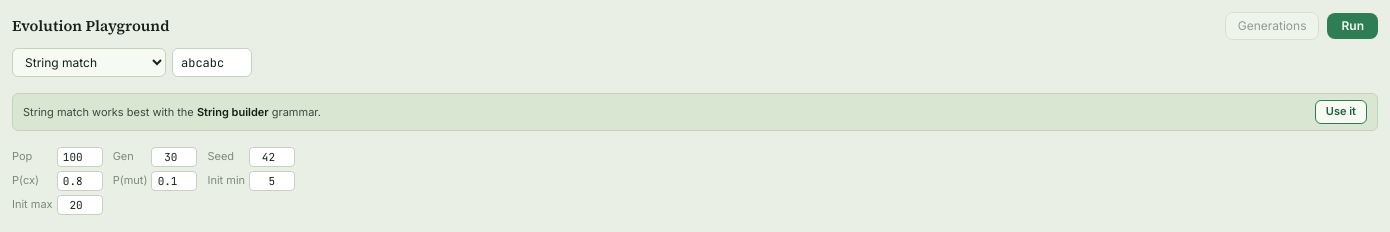
Scenario: EvolutionPanel › disables running when the population is out of range
Replace the text in the number field labelled "Pop" with "1" at [80, 157], box 57,147 -> 103,167
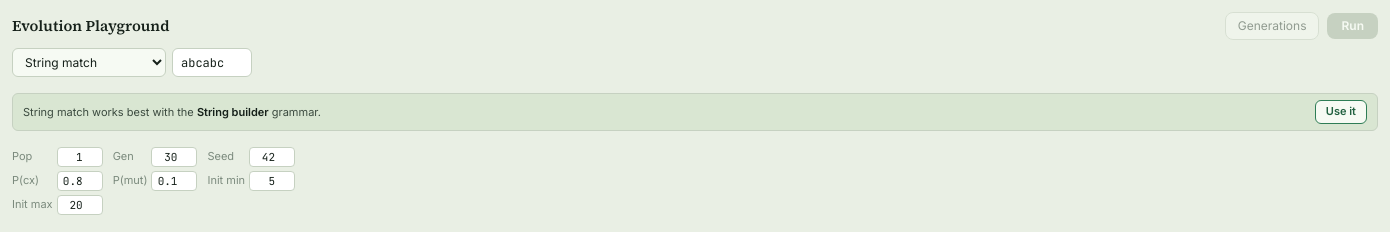
expect the button "Run" is disabled: met, box 1328,13 -> 1378,39
